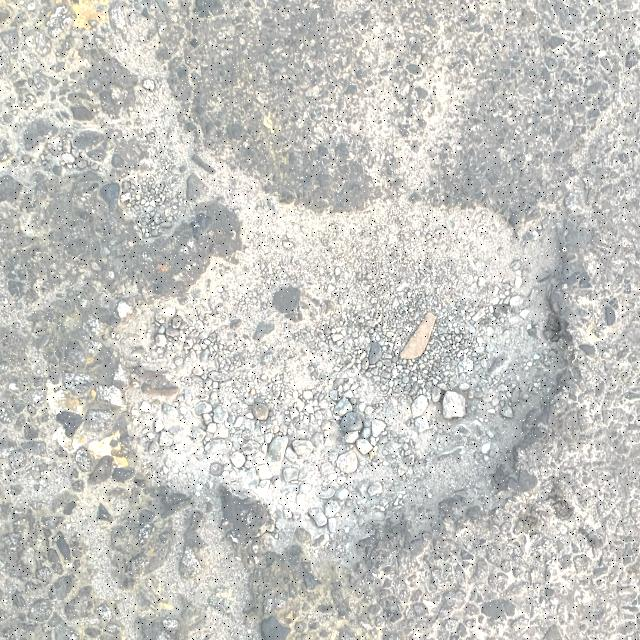damaged: (70, 132, 584, 560)
